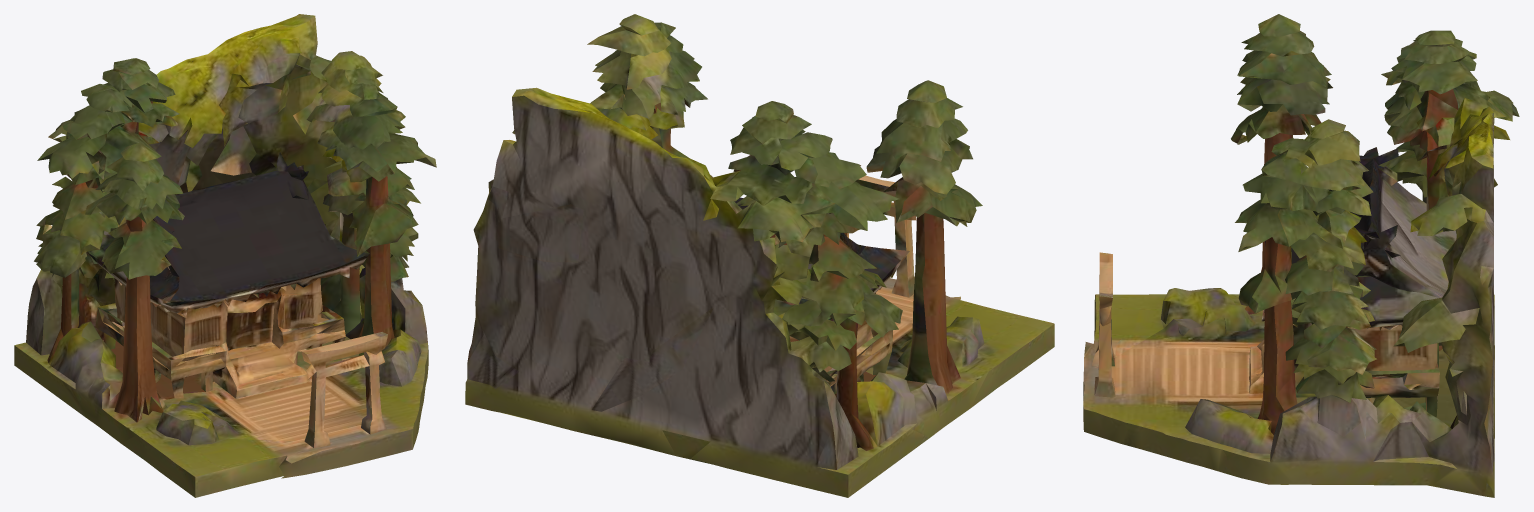
Rendered from amanoiwato-shrine.glb.
3 views of the same model, side by side, from view 1: azimuth 30°, elevation 25°; view 2: azimuth 150°, elevation 25°; view 3: azimuth 270°, elevation 25° (orthographic). The views are drawn at different scales.
Parts seen in each view (by area): view 1: logan-textured.obj; view 2: logan-textured.obj; view 3: logan-textured.obj.
Boxes of the visible parts, bbox=[...] form: logan-textured.obj: bbox=[14, 14, 436, 497]; logan-textured.obj: bbox=[465, 14, 1054, 497]; logan-textured.obj: bbox=[1083, 14, 1519, 497].
Size of the model in its own units: 1 by 0.8448 by 0.9919.
Materials: 1 (1 with a texture image).
